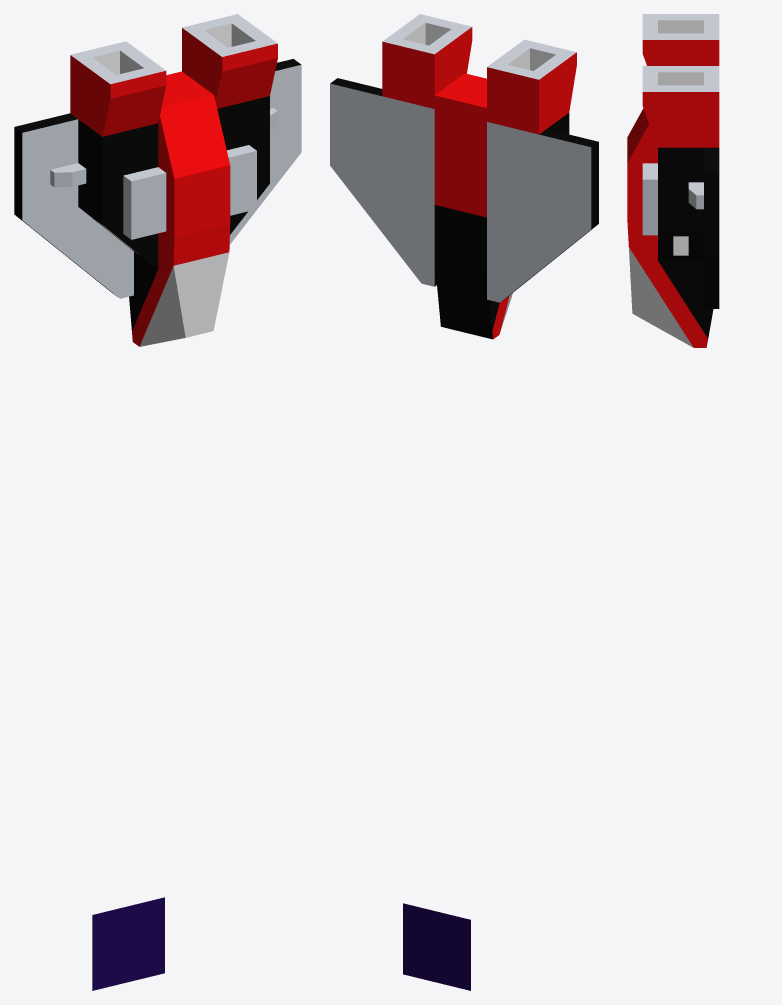
The picture shows the model from 3 angles, left to right: view 1: azimuth 30°, elevation 25°; view 2: azimuth 150°, elevation 25°; view 3: azimuth 270°, elevation 25°; orthographic projection. The views are drawn at different scales.
Visible parts, largest first — view 1: craft_speederB.003, Plane; view 2: craft_speederB.003, Plane; view 3: craft_speederB.003.
Part boxes in pixels (bbox=[...]): craft_speederB.003: bbox=[14, 14, 301, 346]; Plane: bbox=[92, 897, 164, 990]; craft_speederB.003: bbox=[330, 14, 598, 339]; Plane: bbox=[403, 903, 470, 990]; craft_speederB.003: bbox=[627, 14, 719, 347].
Size of the model in its own units: 7.69 by 25.43 by 3.51.
